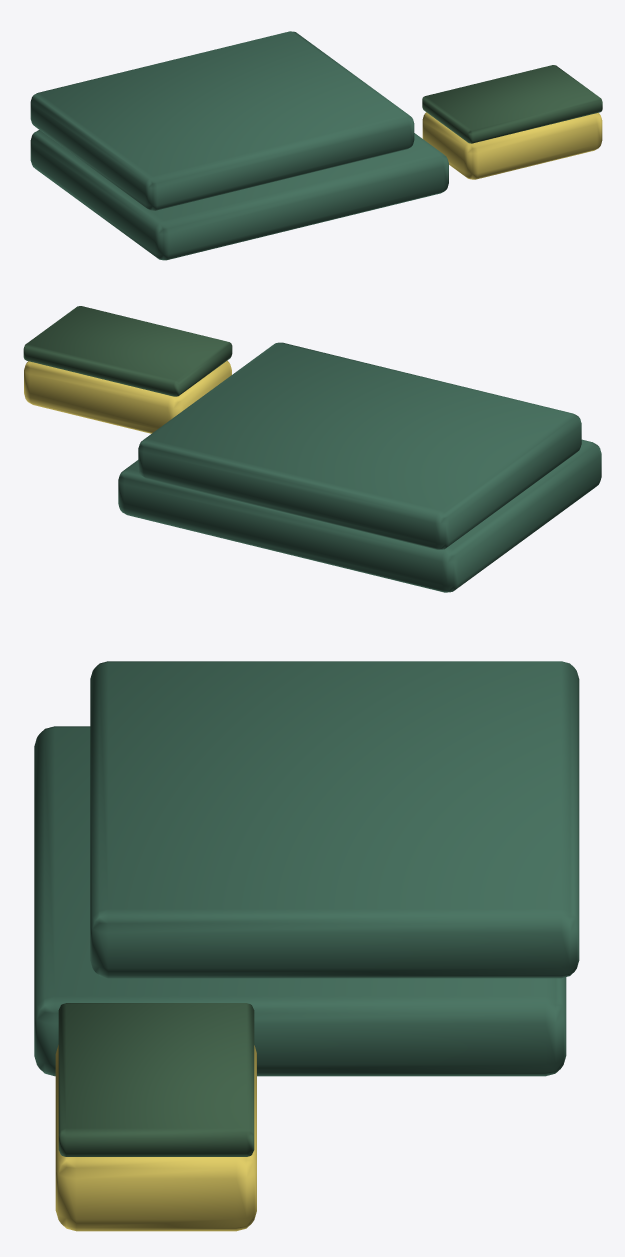
Rendered from asset_077_cleaning_cloth_and_sponge_set.glb.
The picture shows the model from 3 angles, top to bottom: view 1: azimuth 30°, elevation 25°; view 2: azimuth 150°, elevation 25°; view 3: azimuth 270°, elevation 25°; orthographic projection. The views are drawn at different scales.
Visible parts, largest first — view 1: MESH_ClothFoldedUpper, MESH_ClothFoldedLower, MESH_SpongeScourPad, MESH_SpongeFoam; view 2: MESH_ClothFoldedUpper, MESH_ClothFoldedLower, MESH_SpongeScourPad, MESH_SpongeFoam; view 3: MESH_ClothFoldedUpper, MESH_ClothFoldedLower, MESH_SpongeScourPad, MESH_SpongeFoam.
Boxes of the visible parts, <box> form: MESH_ClothFoldedUpper: <box>30,31,414,210</box>; MESH_ClothFoldedLower: <box>30,130,448,260</box>; MESH_SpongeScourPad: <box>422,65,602,143</box>; MESH_SpongeFoam: <box>422,112,602,179</box>; MESH_ClothFoldedUpper: <box>138,342,581,549</box>; MESH_ClothFoldedLower: <box>118,439,601,592</box>; MESH_SpongeScourPad: <box>23,306,232,396</box>; MESH_SpongeFoam: <box>24,360,231,433</box>; MESH_ClothFoldedUpper: <box>90,661,579,978</box>; MESH_ClothFoldedLower: <box>34,726,566,1076</box>; MESH_SpongeScourPad: <box>58,1003,254,1156</box>; MESH_SpongeFoam: <box>55,1045,256,1231</box>.
Bounding box in the file's own units: 0.3705 × 0.0605 × 0.1935.
